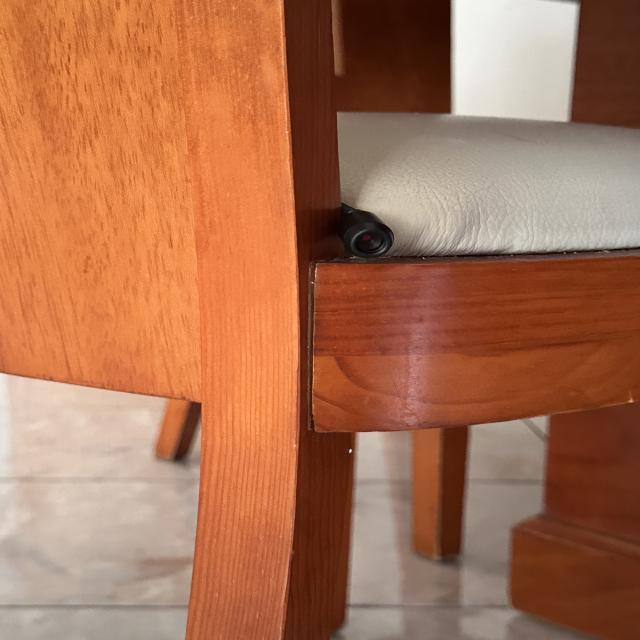hidden camera: (348, 222, 395, 261)
